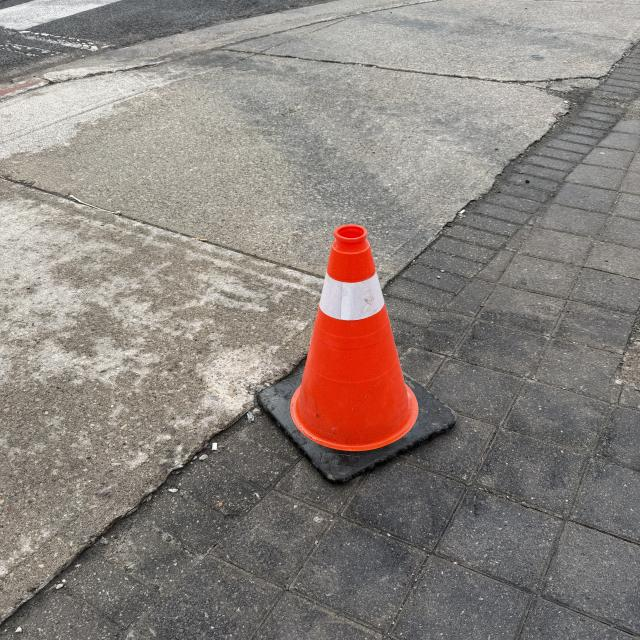Traffic Cone: (257, 224, 456, 483)
